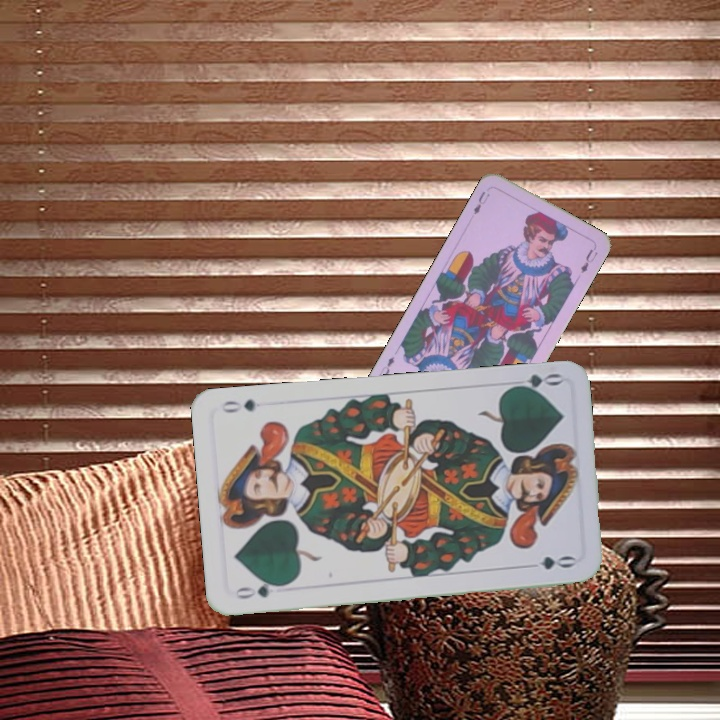EU: (469, 187, 492, 217)
GO: (505, 369, 564, 396), (231, 577, 289, 602)
